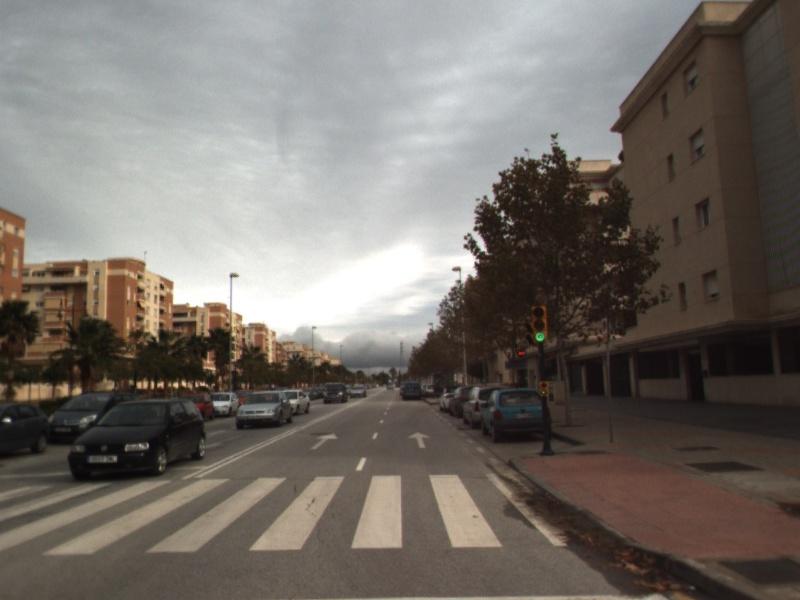STRAIGHT: (308, 430, 340, 451), (406, 430, 432, 450)
